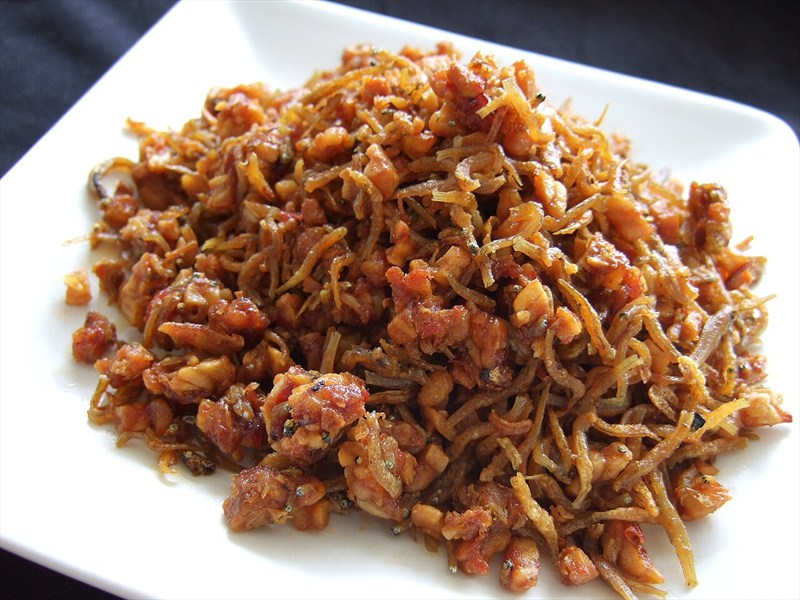Tempe Goreng: (122, 94, 703, 511)
